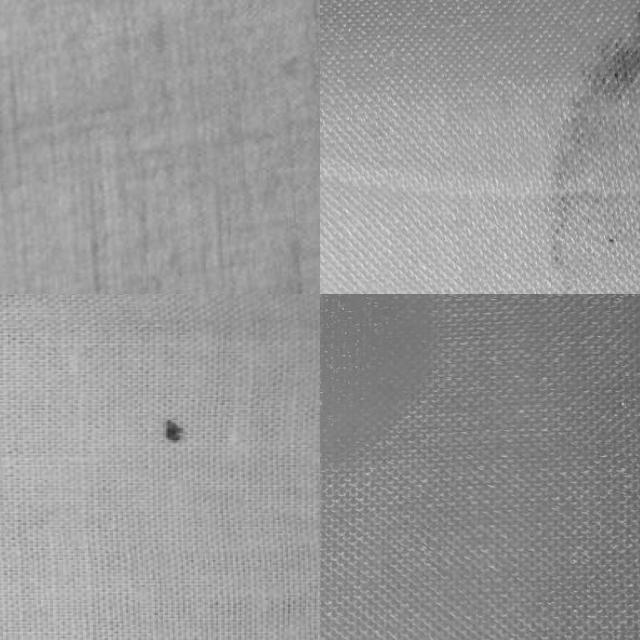Thread_other: (511, 0, 640, 294), (320, 294, 488, 506), (136, 388, 213, 474)
